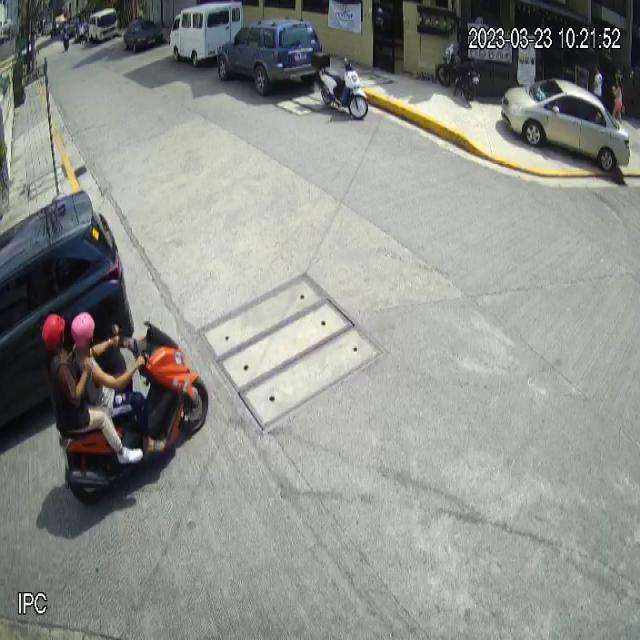Car: (501, 78, 630, 171), (216, 16, 323, 96)
Motorcycle: (57, 320, 209, 507), (309, 49, 369, 120)
Van: (169, 0, 242, 69)
